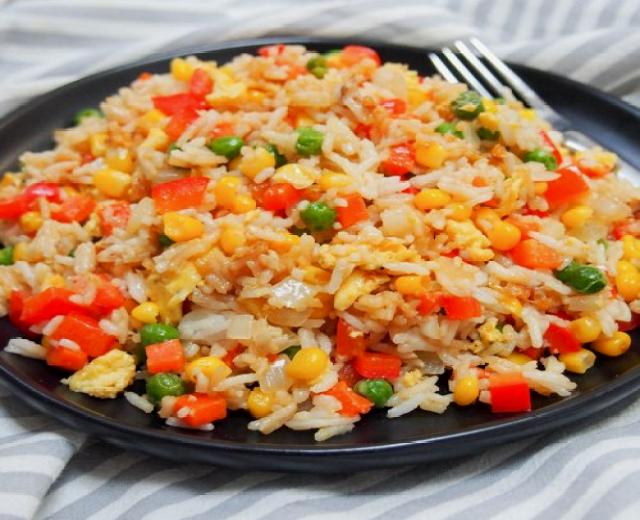fried rice: (1, 44, 635, 436)
